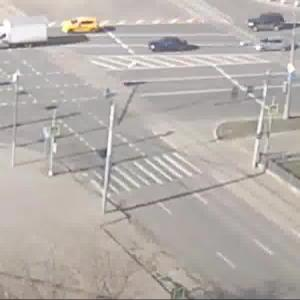car: (1, 15, 50, 47), (146, 33, 201, 55), (65, 15, 106, 36), (251, 13, 288, 33), (254, 37, 290, 54)
